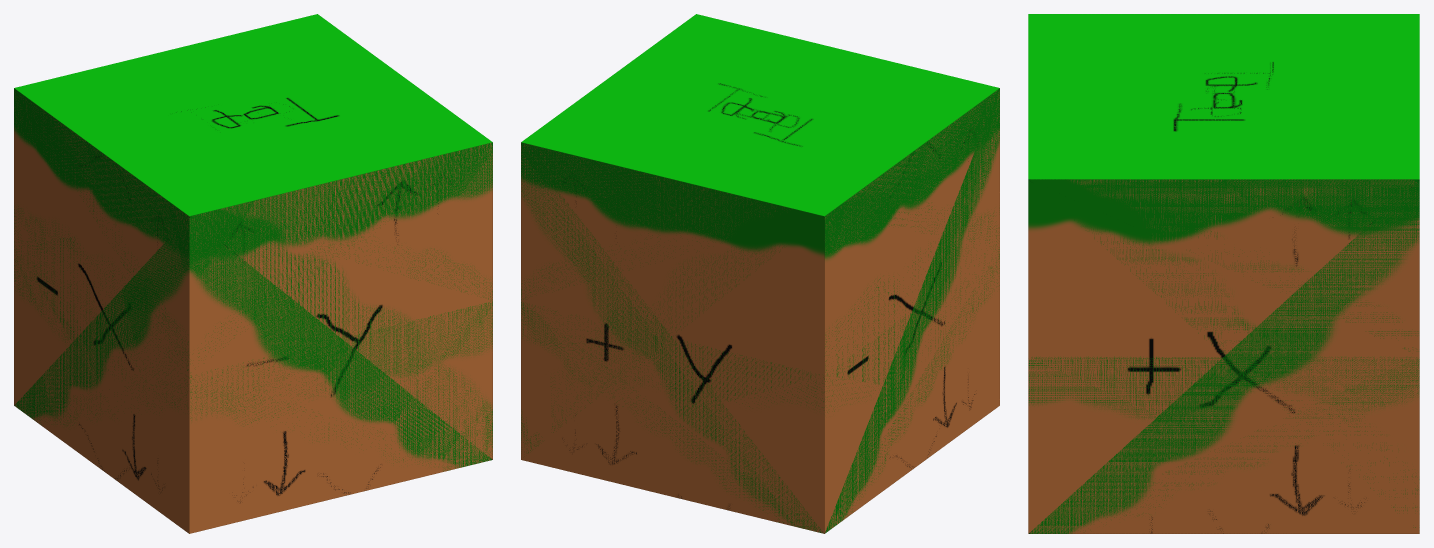
Rendered from Delete-Test Bevel triplanar.obj.
3 renders of one model, left to right at view 1: azimuth 30°, elevation 25°; view 2: azimuth 150°, elevation 25°; view 3: azimuth 270°, elevation 25°, orthographic. The views are drawn at different scales.
Parts seen in each view (by area): view 1: Cube-col.001, Corner-col, CornerRemoved-col, CornerRemovedUpsideDown-col, RampUpsideDown-col, Slab-col, Cube-col.002, SlabCornerUpsideDown-col, SlabCornerRemovedUpsideDown-col, SlabCorner-col, SlabRampUpsideDown-col; view 2: CornerRemoved-col, CornerRemovedUpsideDown-col, Corner-col, Ramp-col, Cube-col.002, Cube-col.001, Slab-col, SlabCornerRemovedUpsideDown-col, SlabCorner-col, SlabRamp-col, RampUpsideDown-col, SlabRampUpsideDown-col (+1 smaller); view 3: Cube-col.001, CornerRemoved-col, Cube-col.002, CornerRemovedUpsideDown-col, Slab-col, RampUpsideDown-col, SlabRampUpsideDown-col, SlabCornerRemovedUpsideDown-col, SlabCornerRemoved-col.
Part boxes in pixels (<box>): Cube-col.001: <box>189,14,492,532</box>; Corner-col: <box>14,216,492,533</box>; CornerRemoved-col: <box>14,14,317,533</box>; CornerRemovedUpsideDown-col: <box>14,14,491,404</box>; RampUpsideDown-col: <box>191,143,492,456</box>; Slab-col: <box>14,249,492,533</box>; Cube-col.002: <box>14,14,492,525</box>; SlabCornerUpsideDown-col: <box>19,92,488,370</box>; SlabCornerRemovedUpsideDown-col: <box>14,89,188,369</box>; SlabCorner-col: <box>17,382,484,531</box>; SlabRampUpsideDown-col: <box>243,145,492,300</box>; CornerRemoved-col: <box>521,88,999,533</box>; CornerRemovedUpsideDown-col: <box>521,14,999,530</box>; Corner-col: <box>825,89,999,533</box>; Ramp-col: <box>521,143,823,533</box>; Cube-col.002: <box>522,39,999,403</box>; Cube-col.001: <box>522,14,998,141</box>; Slab-col: <box>521,249,999,533</box>; SlabCornerRemovedUpsideDown-col: <box>521,91,999,372</box>; SlabCorner-col: <box>829,254,999,527</box>; SlabRamp-col: <box>521,302,822,532</box>; RampUpsideDown-col: <box>521,142,822,452</box>; SlabRampUpsideDown-col: <box>521,144,764,299</box>; Cube-col.001: <box>1028,14,1419,533</box>; CornerRemoved-col: <box>1029,14,1419,533</box>; Cube-col.002: <box>1028,14,1419,533</box>; CornerRemovedUpsideDown-col: <box>1028,14,1419,527</box>; Slab-col: <box>1028,356,1419,533</box>; RampUpsideDown-col: <box>1028,179,1419,532</box>; SlabRampUpsideDown-col: <box>1028,179,1419,356</box>; SlabCornerRemovedUpsideDown-col: <box>1049,179,1419,351</box>; SlabCornerRemoved-col: <box>1075,361,1419,533</box>.
Size of the model in its own units: 1 by 1 by 1.
